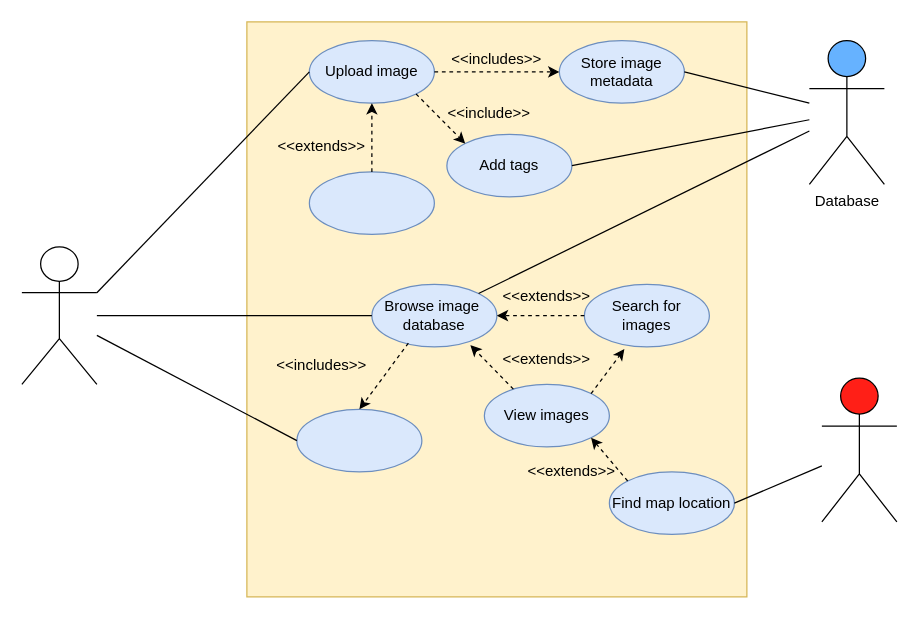
Image size: 919x619. Some labels were removed from this diagram. The shapes that lost their labels are listed below. From the top down, each one's centre as x and y in pixels, then its label:
At pixel 371 202: "Delete/edit image".
At pixel 59 315: "User".
At pixel 359 440: "Create album".
At pixel 859 449: "Maps API".
